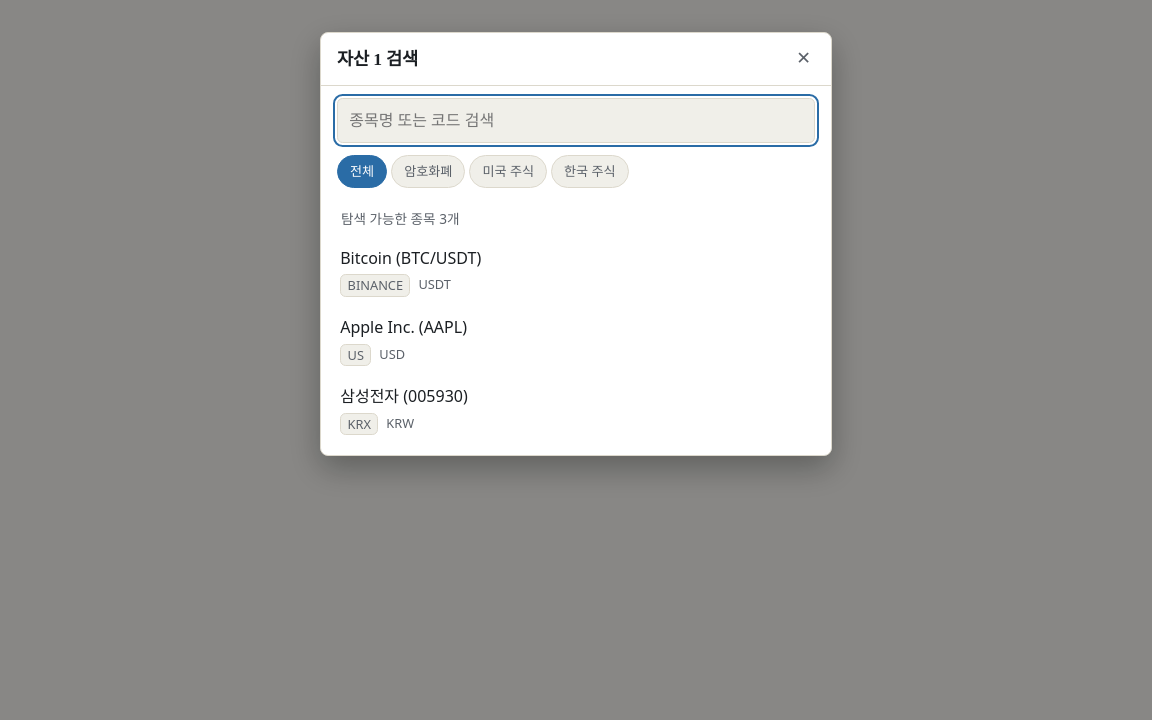
Test: InstrumentSearchModal › 시장 필터를 누르면 해당 provider 자산만 남긴다
Check: the button "Bitcoin (BTC/USDT) BINANCE USDT" is shown, box top-left (329, 238), bottom-right (823, 305)
Click the button "미국 주식": coordinates (508, 172) top-left (469, 155), bottom-right (547, 188)
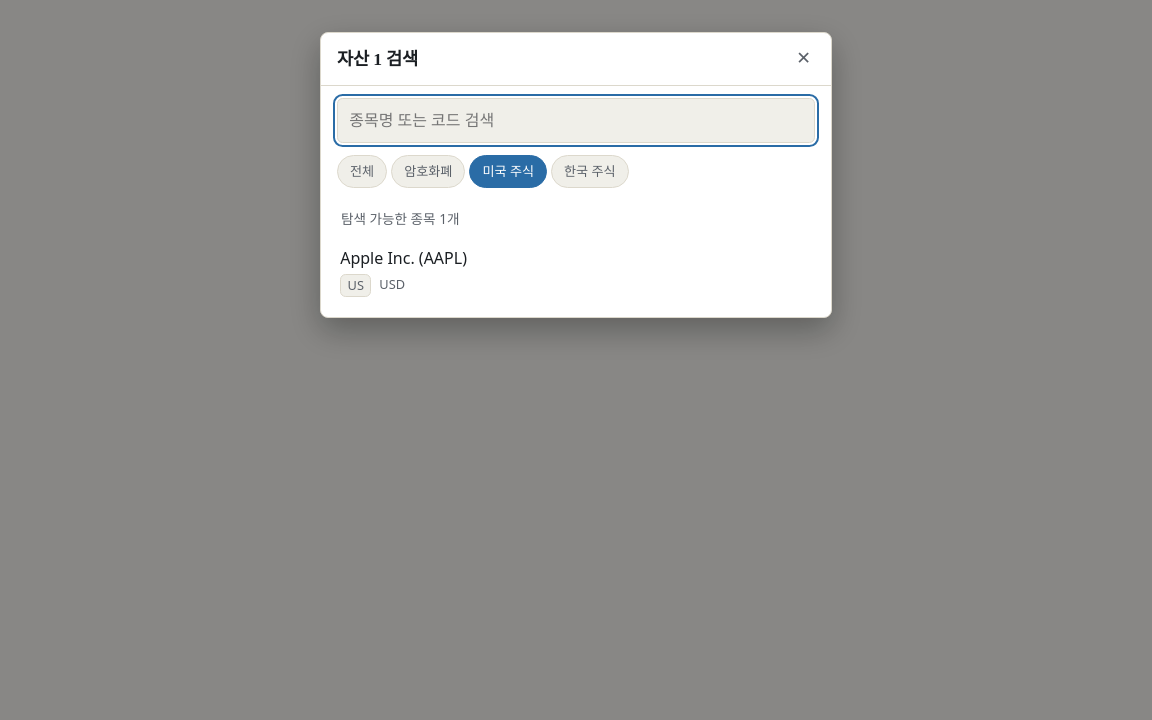
Check: the button "Apple Inc. (AAPL) US USD" is shown, box top-left (329, 238), bottom-right (823, 305)
Check: the button "Bitcoin (BTC/USDT)" is gone
Check: the button "삼성전자" is gone
